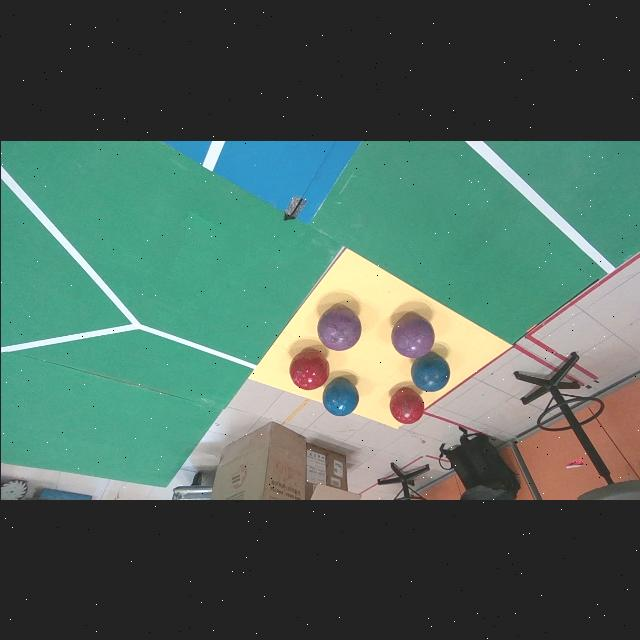B: (410, 353, 450, 392), (322, 378, 357, 416)
P: (390, 314, 434, 358), (317, 307, 360, 350)
R: (289, 350, 328, 390), (389, 388, 423, 424)
